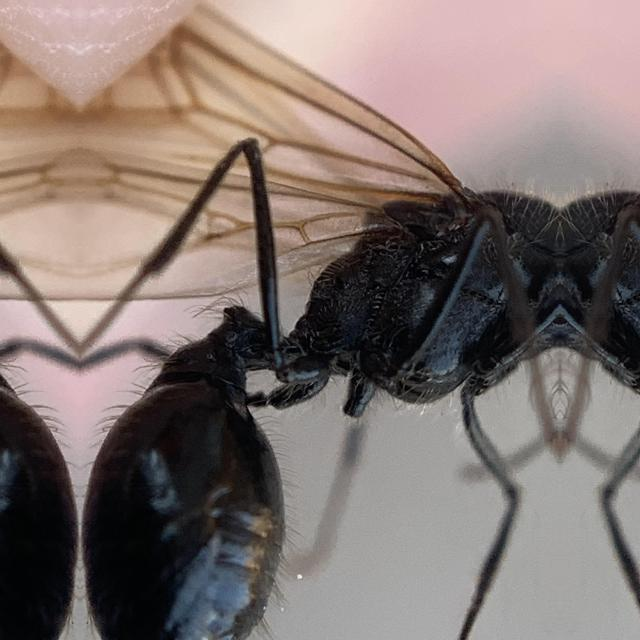Messor: (80, 116, 560, 640)
